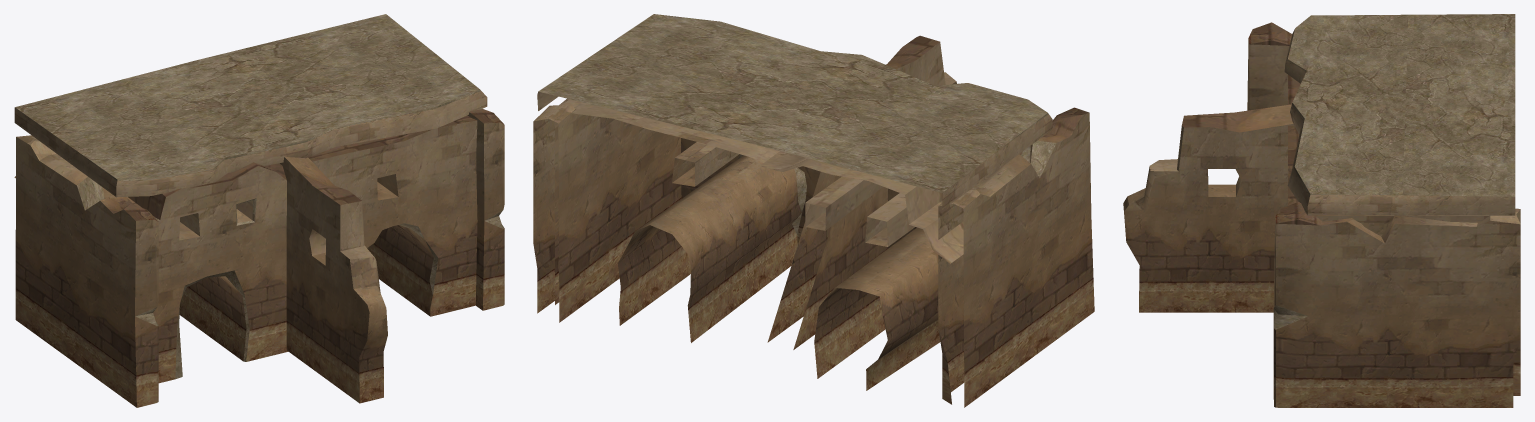
The model's file is environment_Building_shamofeiqijianzhu_01_b.FBX.
The picture shows the model from 3 angles, left to right: view 1: azimuth 30°, elevation 25°; view 2: azimuth 150°, elevation 25°; view 3: azimuth 270°, elevation 25°; orthographic projection. The views are drawn at different scales.
Visible parts, largest first — view 1: environment_Building_shamofeiqijianzhu_01_b; view 2: environment_Building_shamofeiqijianzhu_01_b; view 3: environment_Building_shamofeiqijianzhu_01_b.
Boxes of the visible parts, x1,y1,x2,y2 form: environment_Building_shamofeiqijianzhu_01_b: [14, 14, 504, 407]; environment_Building_shamofeiqijianzhu_01_b: [533, 14, 1094, 407]; environment_Building_shamofeiqijianzhu_01_b: [1123, 14, 1520, 407].
Size of the model in its own units: 650 by 333 by 571.
